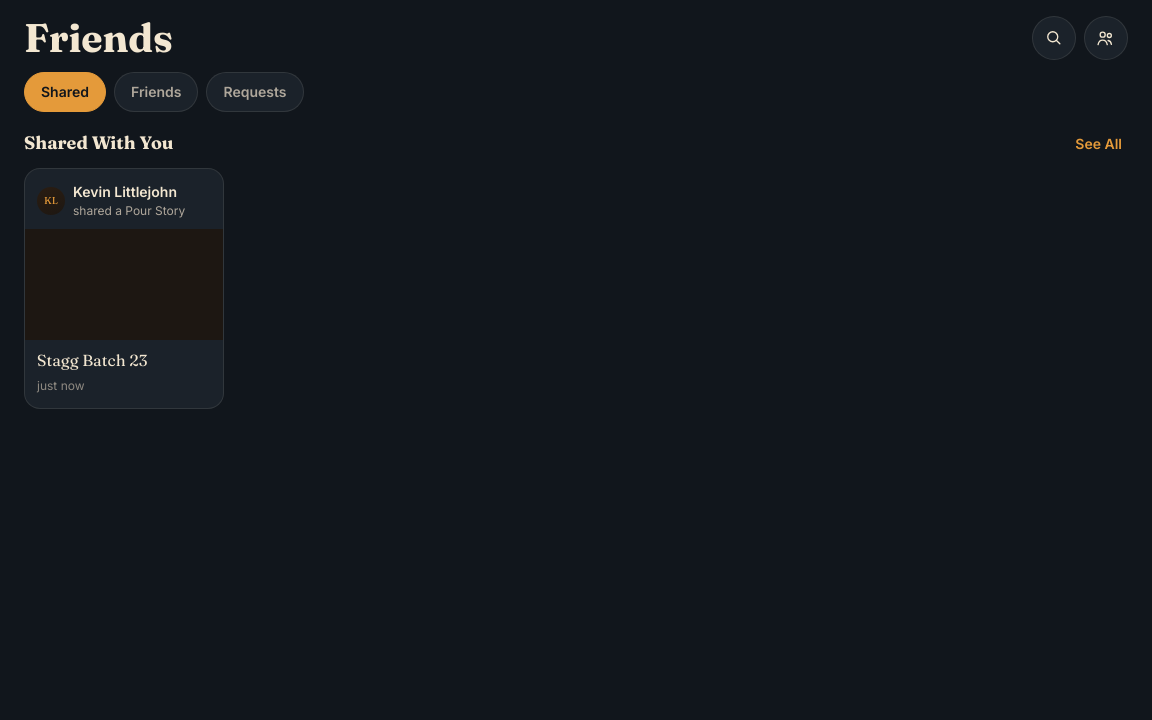
Test: FriendsPage › reveals the full actionable list for Shared With You only after "See All" is tapped
Expected: the text "shared a Pour Story with you" is not shown
Click the button "See All".
click(1099, 144)  # box [1069,132,1128,156]
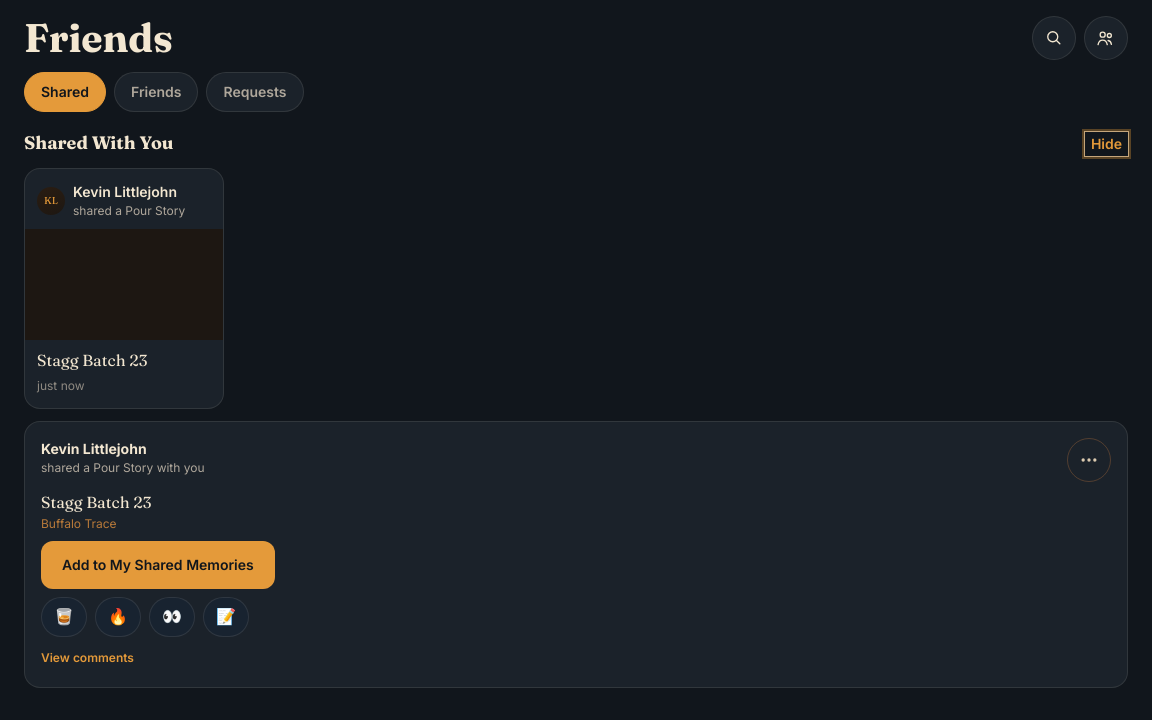
Result: the text "shared a Pour Story with you" is shown at [41,459,205,478]
